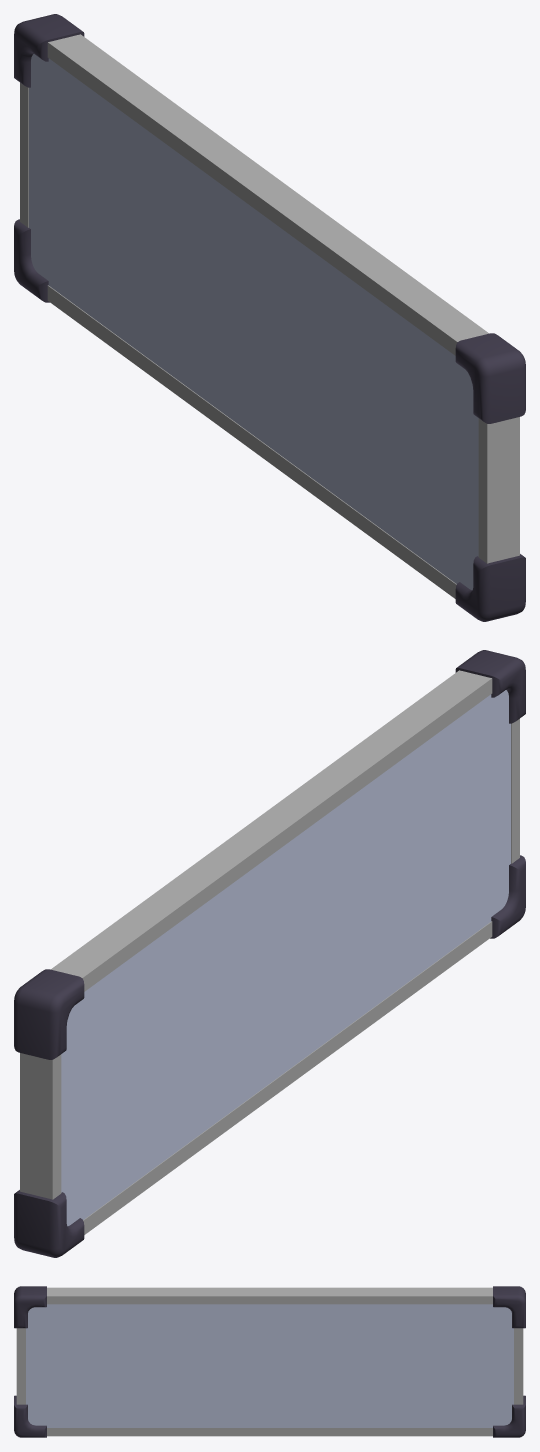
The model's file is 008Wall.fbx.
The picture shows the model from 3 angles, top to bottom: view 1: azimuth 30°, elevation 25°; view 2: azimuth 150°, elevation 25°; view 3: azimuth 270°, elevation 25°; orthographic projection. The views are drawn at different scales.
Visible parts, largest first — view 1: 立方体, 立方体.003, 立方体.001, 立方体.002; view 2: 立方体, 立方体.003, 立方体.001, 立方体.002; view 3: 立方体, 立方体.003, 立方体.001, 立方体.002.
Boxes of the visible parts, box(x1,y1,x2,y2) form: 立方体: box(29, 54, 478, 590); 立方体.003: box(47, 34, 488, 598); 立方体.001: box(14, 14, 525, 621); 立方体.002: box(20, 82, 519, 563); 立方体: box(61, 690, 510, 1226); 立方体.003: box(51, 670, 492, 1234); 立方体.001: box(14, 650, 525, 1257); 立方体.002: box(20, 718, 519, 1199); 立方体: box(26, 1304, 513, 1427); 立方体.003: box(47, 1287, 492, 1436); 立方体.001: box(14, 1286, 525, 1437); 立方体.002: box(16, 1328, 523, 1404).
Size of the model in its own units: 55.9 by 302 by 984.
